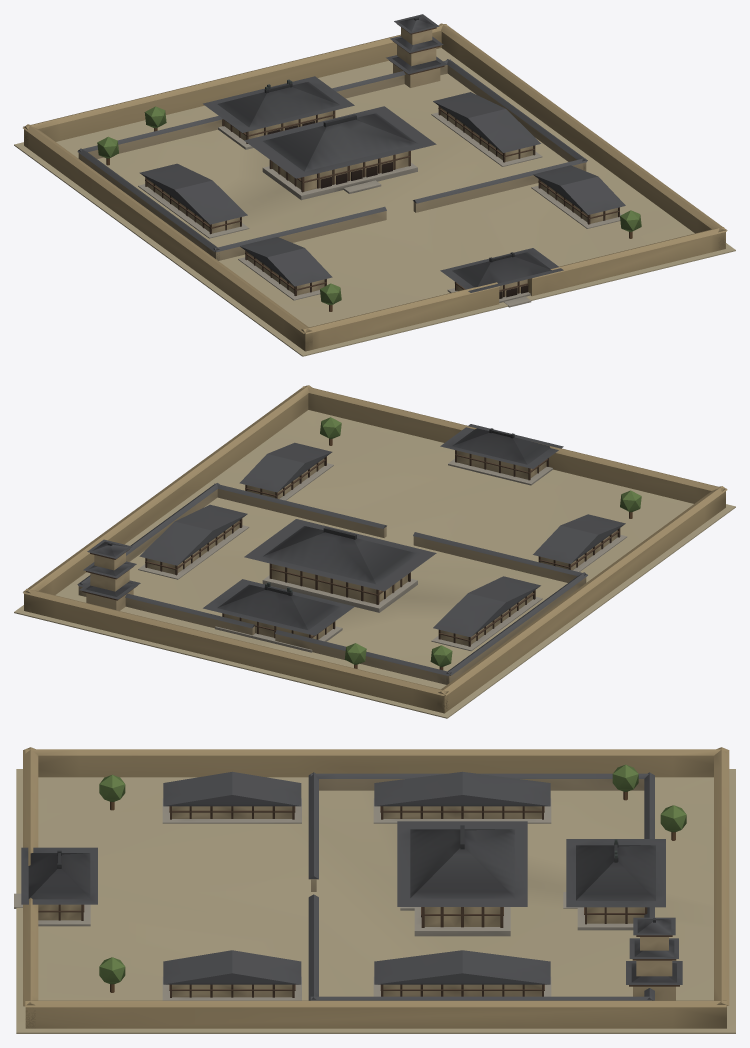
File: yamen-han.glb
3 renders of one model, top to bottom at view 1: azimuth 30°, elevation 25°; view 2: azimuth 150°, elevation 25°; view 3: azimuth 270°, elevation 25°, orthographic. The views are drawn at different scales.
Parts seen in each view (by area): view 1: p0_walls, p2_trees, p1_tower; view 2: p0_walls, p2_trees, p1_tower; view 3: p0_walls, p2_trees, p1_tower.
Part boxes in pixels (x1=…): p0_walls: x1=14, y1=23, x2=735, y2=356; p2_trees: x1=97, y1=14, x2=641, y2=311; p1_tower: x1=138, y1=24, x2=621, y2=307; p0_walls: x1=14, y1=385, x2=735, y2=718; p2_trees: x1=79, y1=417, x2=641, y2=670; p1_tower: x1=82, y1=450, x2=627, y2=652; p0_walls: x1=16, y1=747, x2=735, y2=1033; p2_trees: x1=21, y1=764, x2=686, y2=992; p1_tower: x1=14, y1=798, x2=679, y2=1000.
Bounding box in the file's own units: 130 × 17.6 × 150.
